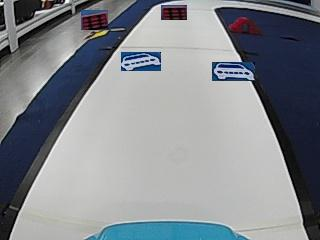bridge: (228, 16, 260, 34)
